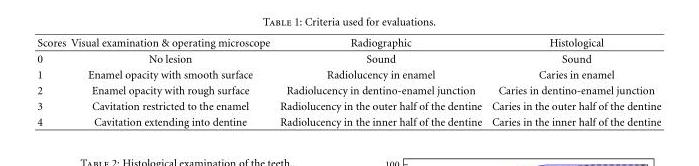table: (36, 36, 660, 127)
table column: (274, 36, 486, 127), (67, 36, 274, 127), (486, 36, 660, 127), (36, 36, 67, 127)
table column header: (36, 36, 660, 50)
table row: (36, 50, 660, 66), (36, 66, 660, 82), (36, 97, 660, 113), (36, 82, 660, 97), (36, 36, 660, 50), (36, 113, 660, 127)
